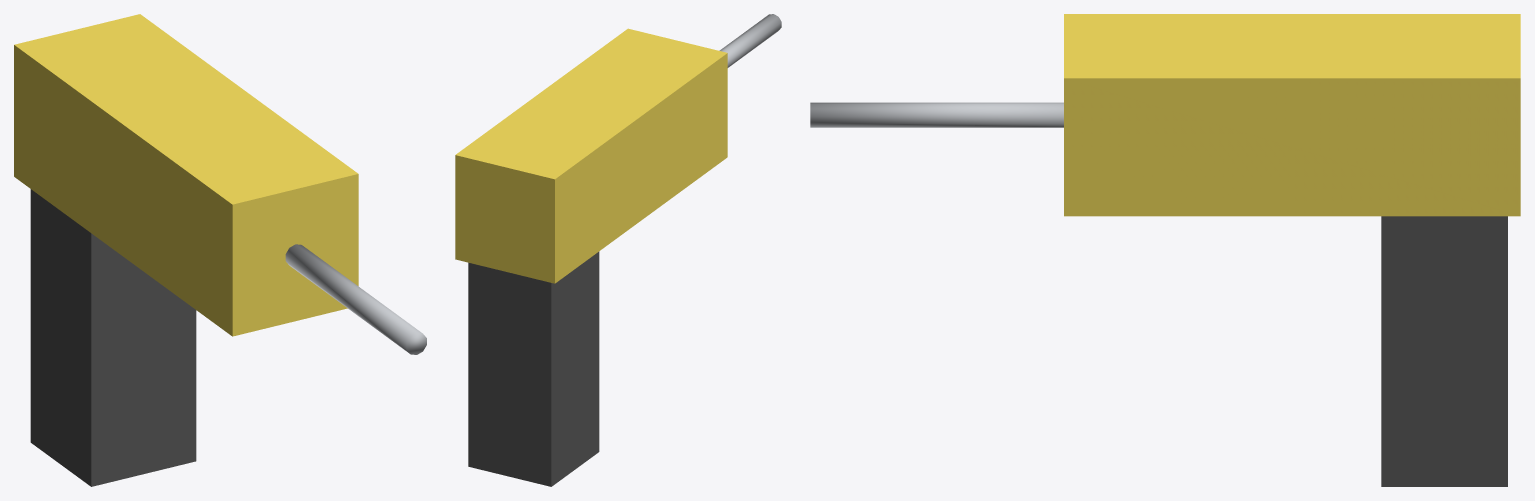
File: tool_drill.glb
3 renders of one model, left to right at view 1: azimuth 30°, elevation 25°; view 2: azimuth 150°, elevation 25°; view 3: azimuth 270°, elevation 25°, orthographic. The views are drawn at different scales.
Visible parts, largest first — view 1: Cube, Cube.001, Cylinder; view 2: Cube, Cube.001, Cylinder; view 3: Cube, Cube.001, Cylinder.
Part boxes in pixels (x1,y1,x2,y2): Cube: (14, 14, 358, 336); Cube.001: (30, 189, 196, 486); Cylinder: (285, 244, 426, 354); Cube: (455, 28, 727, 283); Cube.001: (468, 251, 599, 486); Cylinder: (719, 14, 781, 67); Cube: (1064, 14, 1520, 216); Cube.001: (1381, 216, 1507, 486); Cylinder: (810, 102, 1063, 127).
Bounding box in the file's own units: 0.06 × 0.18 × 0.28.
